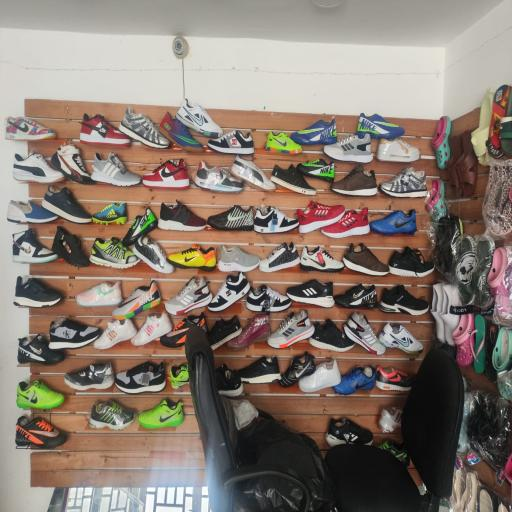sandal: (471, 88, 494, 166), (488, 84, 510, 158), (455, 130, 478, 198), (453, 313, 475, 367), (446, 136, 463, 197), (432, 116, 451, 169), (426, 179, 448, 222), (492, 327, 512, 373), (473, 314, 486, 374)
shoe: (176, 98, 222, 149), (134, 244, 216, 271), (118, 107, 170, 148), (112, 280, 161, 320), (42, 185, 92, 223), (165, 276, 213, 315), (344, 312, 386, 355), (267, 310, 314, 348), (48, 317, 102, 350), (79, 113, 131, 147), (160, 112, 204, 152), (50, 144, 94, 184), (207, 272, 251, 312), (160, 312, 208, 348), (13, 151, 65, 184), (15, 416, 67, 449), (90, 152, 140, 186), (115, 361, 166, 394), (230, 155, 276, 191), (194, 160, 244, 193), (12, 228, 59, 263), (132, 235, 174, 274), (297, 200, 345, 234), (52, 226, 90, 268), (342, 243, 390, 276), (227, 314, 271, 350), (378, 322, 424, 356), (321, 207, 370, 238), (308, 319, 354, 352), (64, 361, 114, 391), (89, 238, 139, 268), (379, 285, 429, 315), (14, 276, 62, 307), (330, 165, 378, 196), (158, 200, 206, 231), (389, 246, 435, 278), (270, 164, 317, 195), (323, 134, 373, 163), (88, 400, 136, 430), (122, 207, 158, 247), (142, 159, 190, 189), (16, 380, 64, 410), (379, 167, 427, 197), (299, 359, 341, 393), (138, 398, 184, 429), (18, 334, 64, 365), (286, 279, 335, 308), (326, 418, 374, 447), (131, 313, 173, 346), (93, 319, 137, 350), (254, 204, 299, 234), (279, 352, 316, 388), (4, 116, 56, 141), (333, 366, 376, 396), (246, 284, 292, 312), (290, 118, 337, 145), (369, 209, 417, 235), (357, 113, 405, 139), (76, 280, 122, 307), (238, 356, 282, 384), (207, 205, 254, 231), (217, 244, 260, 272), (259, 243, 300, 272), (300, 246, 344, 273), (7, 200, 58, 223), (208, 316, 242, 350), (208, 130, 254, 155), (333, 284, 378, 309), (376, 138, 420, 162), (296, 158, 335, 183), (216, 364, 244, 397), (376, 366, 412, 391), (378, 440, 410, 468), (265, 132, 302, 154), (92, 203, 127, 225), (378, 407, 402, 433), (170, 364, 189, 390)
